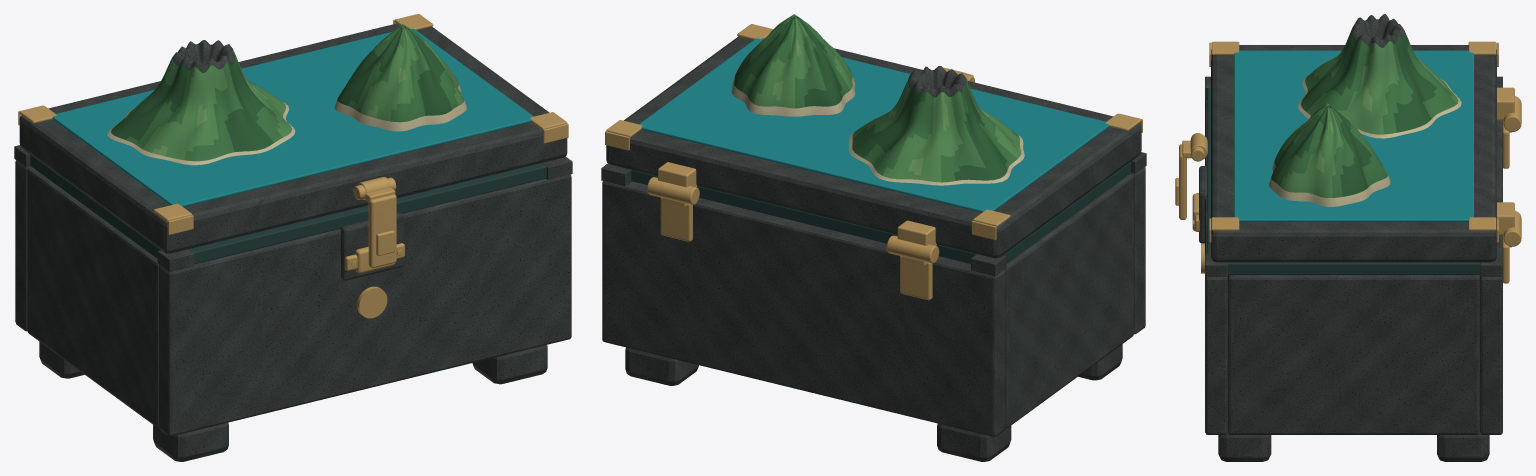
Rendered from saint-kitts-and-nevis.glb.
The picture shows the model from 3 angles, left to right: view 1: azimuth 30°, elevation 25°; view 2: azimuth 150°, elevation 25°; view 3: azimuth 270°, elevation 25°; orthographic projection. The views are drawn at different scales.
Visible parts, largest first — view 1: Stone / front, Lid / polished slab, Sea / inset, Stone / side, Terrain / Saint Kitts crater, Terrain / Nevis peak, Mineral seam / long, Stone / rear, Stone / foot, Stone / foot.002, Latch / lifting hasp, Mineral seam / side (+4 smaller); view 2: Stone / rear, Lid / polished slab, Sea / inset, Stone / side, Terrain / Saint Kitts crater, Terrain / Nevis peak, Mineral seam / long.001, Stone / front, Stone / foot.001, Stone / foot.003, Mineral seam / side, Hinge / fixed mount.001 (+7 smaller); view 3: Stone / side.001, Sea / inset, Lid / polished slab, Terrain / Saint Kitts crater, Terrain / Nevis peak, Stone / rear, Stone / front, Mineral seam / side.001, Stone / foot.002, Stone / foot.003, Mineral seam / long, Stone / clasp seat (+11 smaller).
Part boxes in pixels (box(x1,y1,x2,y2)): Stone / front: box(158, 174, 571, 436); Lid / polished slab: box(19, 23, 567, 253); Sea / inset: box(52, 28, 533, 206); Stone / side: box(27, 167, 159, 427); Terrain / Saint Kitts crater: box(107, 40, 295, 165); Terrain / Nevis peak: box(334, 24, 466, 131); Mineral seam / long: box(188, 163, 546, 264); Stone / rear: box(15, 160, 31, 331); Stone / foot: box(153, 422, 228, 461); Stone / foot.002: box(472, 345, 547, 384); Latch / lifting hasp: box(368, 194, 396, 268); Mineral seam / side: box(30, 155, 160, 258); Stone / rear: box(602, 181, 1005, 436); Lid / polished slab: box(606, 36, 1141, 258); Sea / inset: box(639, 38, 1109, 212); Stone / side: box(1005, 174, 1134, 428); Terrain / Saint Kitts crater: box(849, 66, 1024, 185); Terrain / Nevis peak: box(731, 14, 855, 116); Mineral seam / long.001: box(631, 170, 976, 263); Stone / front: box(1130, 167, 1145, 334); Stone / foot.001: box(937, 423, 1011, 461); Stone / foot.003: box(625, 347, 698, 385); Mineral seam / side: box(1003, 162, 1130, 263); Hinge / fixed mount.001: box(660, 197, 692, 241); Stone / side.001: box(1228, 275, 1479, 434); Sea / inset: box(1234, 50, 1473, 221); Lid / polished slab: box(1211, 45, 1496, 262); Terrain / Saint Kitts crater: box(1298, 14, 1461, 138); Terrain / Nevis peak: box(1269, 103, 1390, 206); Stone / rear: box(1480, 120, 1502, 434); Stone / front: box(1205, 100, 1227, 434); Mineral seam / side.001: box(1228, 262, 1479, 274); Stone / foot.002: box(1218, 433, 1271, 461); Stone / foot.003: box(1437, 432, 1489, 461); Mineral seam / long: box(1207, 88, 1210, 253); Stone / clasp seat: box(1199, 166, 1207, 243).
Size of the model in its own units: 3.72 by 2.93 by 2.88.
Materials: 10 (1 with a texture image).
